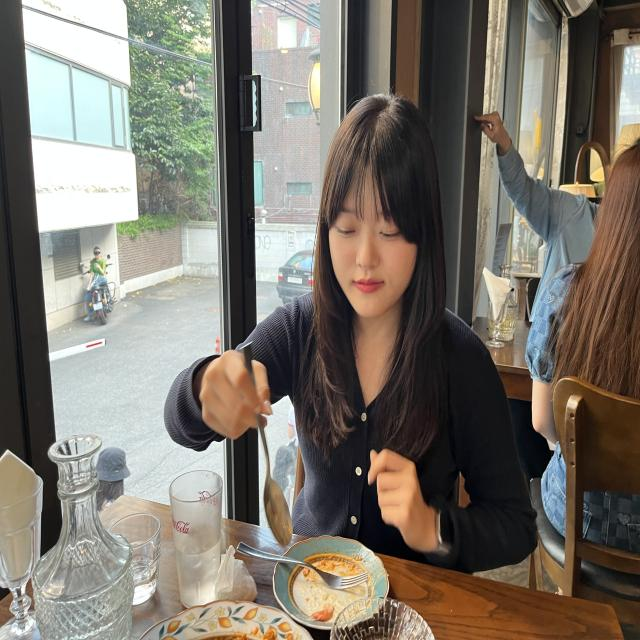eating-person: (152, 73, 532, 640)
